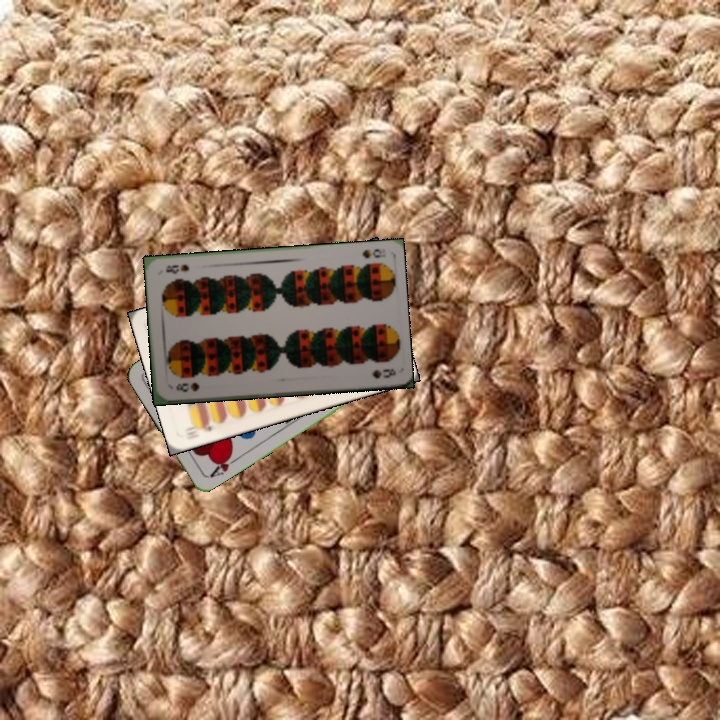E10: (183, 418, 214, 438)
HA: (206, 449, 241, 481)
S8: (172, 378, 202, 394), (358, 245, 388, 261)
